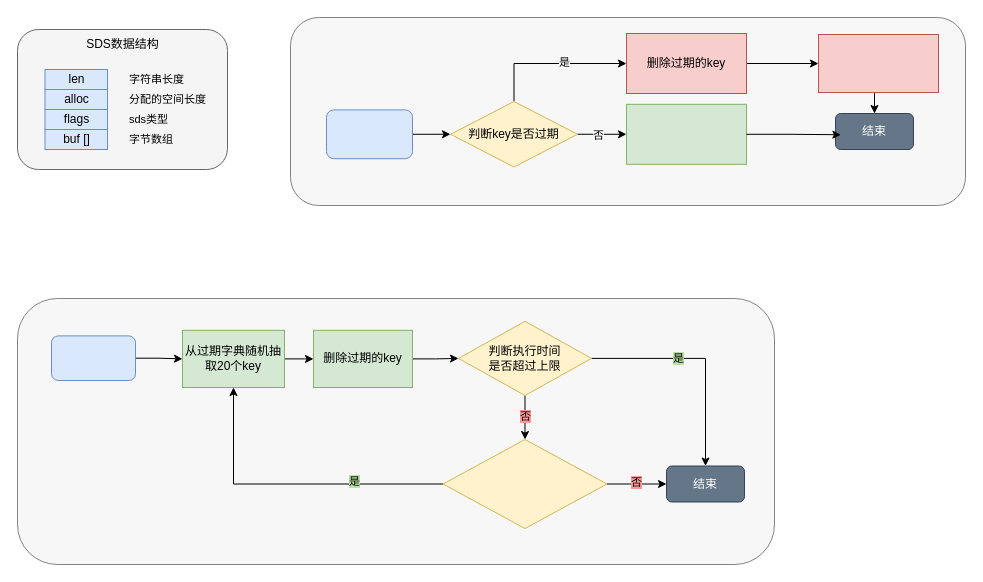
The diagram is 983 pixels wide and 582 high, and some of its shapes have lost their labels. The centre of each missing label's shape, as x and y in pixels:
"判断执行过期key数量 是否超过25%" belongs at pixel 524 483.
"客户端" belongs at pixel 369 134.
"开始" belongs at pixel 93 357.
"返回null给客户端" belongs at pixel 878 63.
"返回数据给客户端" belongs at pixel 686 133.
